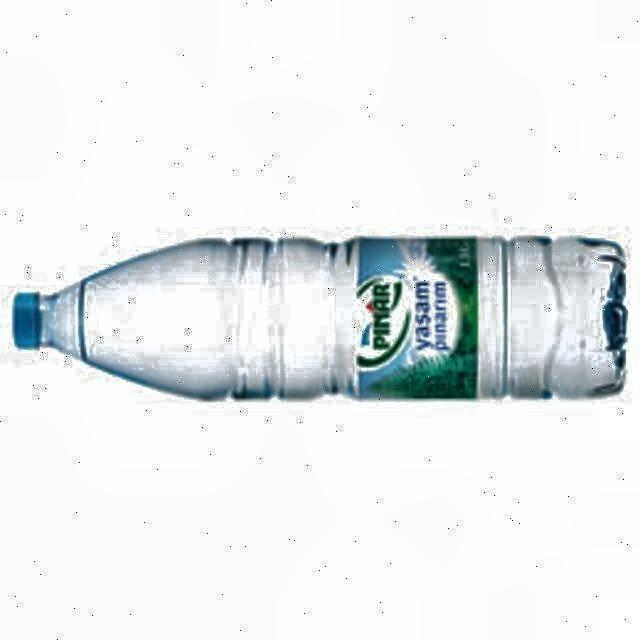plastic: (14, 238, 626, 398)
